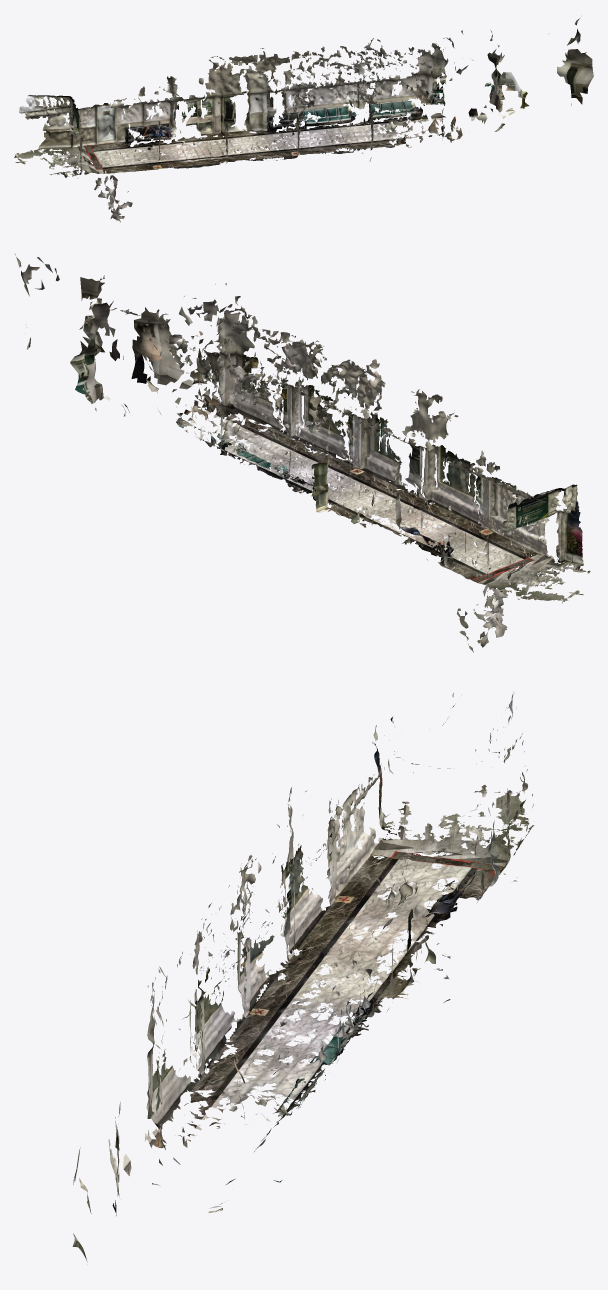
Rendered from 140523-lorongmulazam-tex.glb.
3 views of the same model, one above another, from view 1: azimuth 30°, elevation 25°; view 2: azimuth 150°, elevation 25°; view 3: azimuth 270°, elevation 25° (orthographic). The views are drawn at different scales.
Visible parts, largest first — view 1: Node; view 2: Node; view 3: Node.
Part boxes in pixels (left/top/right/bottom): Node: left=14, top=18, right=593, bottom=222; Node: left=15, top=254, right=590, bottom=652; Node: left=72, top=691, right=534, bottom=1261.
Size of the model in its own units: 26.89 by 8.29 by 10.81.
30 materials, 30 textured.
